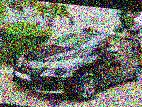car: (10, 23, 142, 107)
